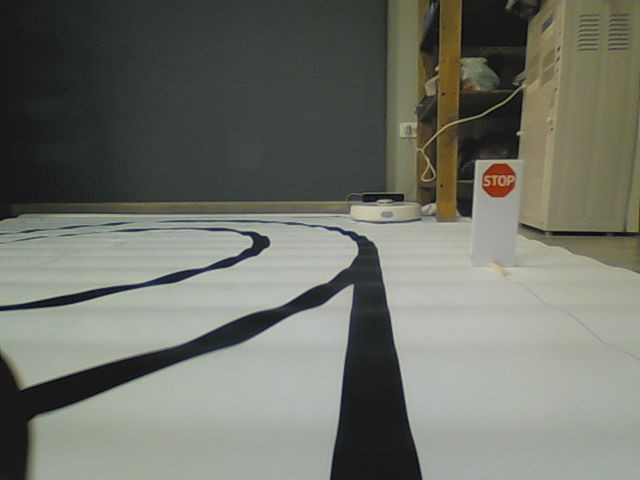Stop: (481, 162, 516, 199)
